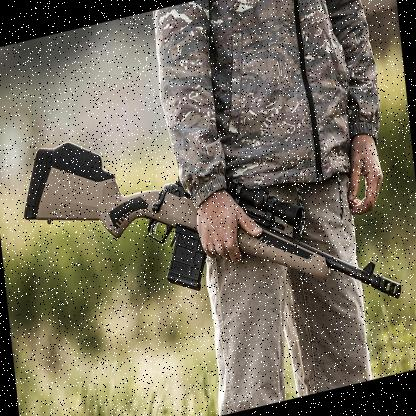rifle: (16, 58, 410, 386)
